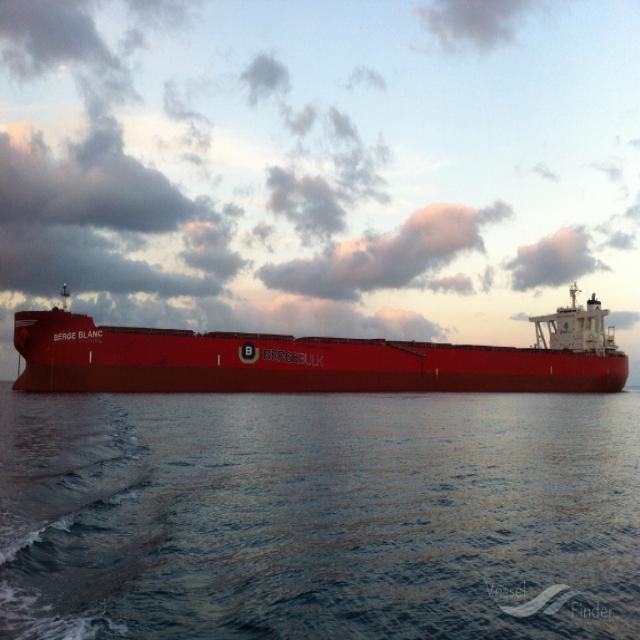OCR: (256, 340, 332, 370), (44, 330, 108, 349)
